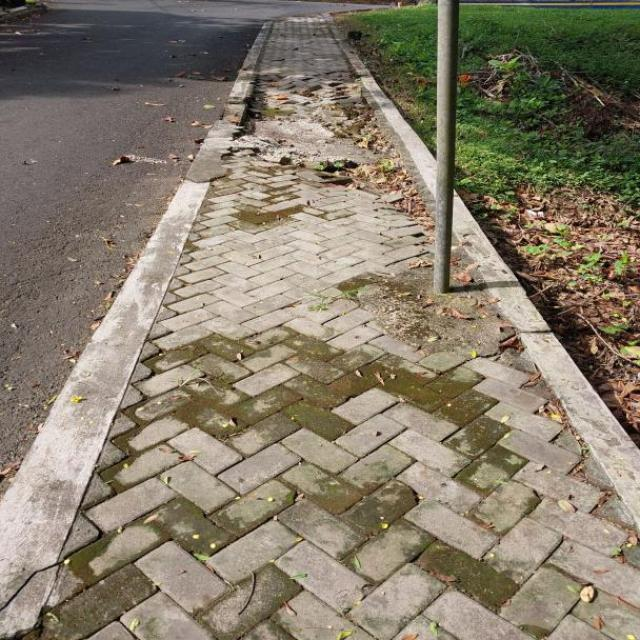electric pole ahead at: (423, 0, 478, 304)
